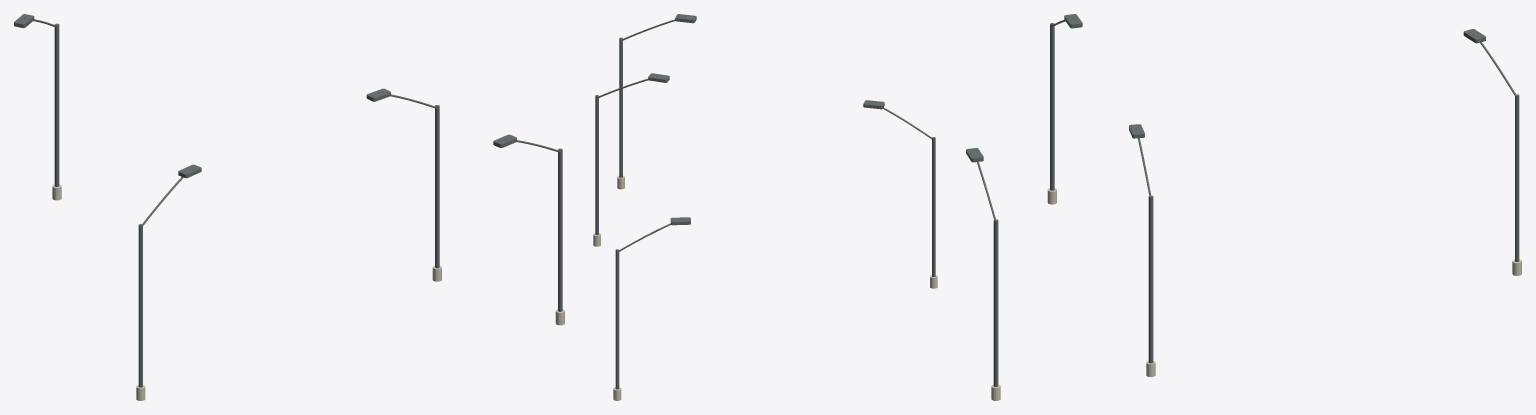
3 views of the same model, side by side, from view 1: azimuth 30°, elevation 25°; view 2: azimuth 150°, elevation 25°; view 3: azimuth 270°, elevation 25° (orthographic). The views are drawn at different scales.
Visible parts, largest first — view 1: buildings_s_0_-6_Dark_Metal, buildings_s_0_-6_Warm_Limestone; view 2: buildings_s_0_-6_Dark_Metal, buildings_s_0_-6_Warm_Limestone; view 3: buildings_s_0_-6_Dark_Metal, buildings_s_0_-6_Warm_Limestone.
Boxes of the visible parts, <box> form: buildings_s_0_-6_Dark_Metal: <box>14,14,562,387</box>; buildings_s_0_-6_Warm_Limestone: <box>52,184,564,400</box>; buildings_s_0_-6_Dark_Metal: <box>595,14,935,389</box>; buildings_s_0_-6_Warm_Limestone: <box>593,175,937,400</box>; buildings_s_0_-6_Dark_Metal: <box>966,14,1519,386</box>; buildings_s_0_-6_Warm_Limestone: <box>991,188,1521,400</box>.
Size of the model in its own units: 33.67 by 16.75 by 39.46.
